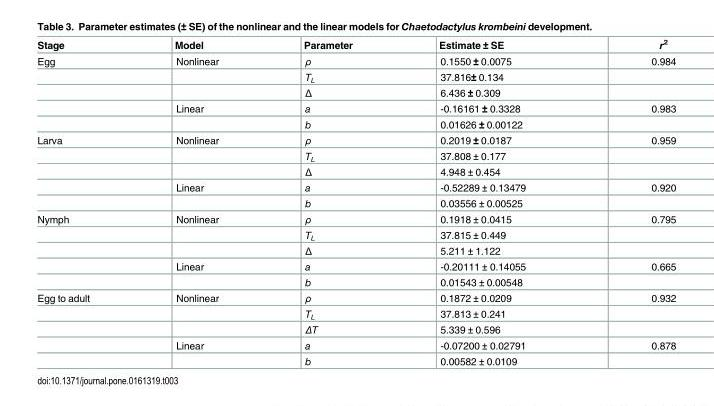table: (36, 36, 675, 366)
table column: (395, 36, 587, 366), (260, 36, 395, 366), (131, 36, 260, 366), (36, 36, 131, 366), (587, 36, 675, 366)
table column header: (36, 36, 675, 52)
table row: (36, 36, 675, 52), (36, 52, 675, 68), (36, 68, 675, 84), (36, 84, 675, 100), (36, 100, 675, 116), (36, 131, 675, 147), (36, 147, 675, 163), (36, 178, 675, 194), (36, 194, 675, 210), (36, 210, 675, 226), (36, 226, 675, 242), (36, 257, 675, 273), (36, 273, 675, 289), (36, 289, 675, 305), (36, 305, 675, 321), (36, 336, 675, 352), (36, 116, 675, 131), (36, 163, 675, 178), (36, 242, 675, 257), (36, 321, 675, 336), (36, 352, 675, 366)
table spanning cell: (36, 52, 131, 131), (36, 131, 131, 210), (36, 210, 131, 289), (36, 289, 131, 366)
